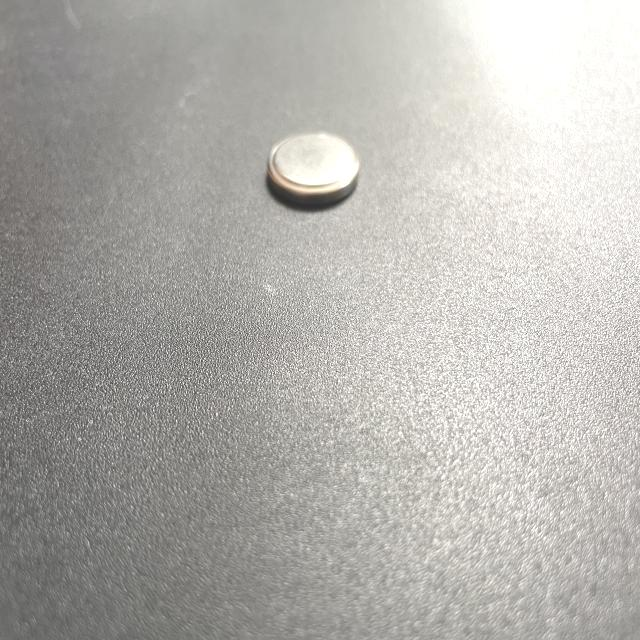COIN: (264, 129, 362, 208)
